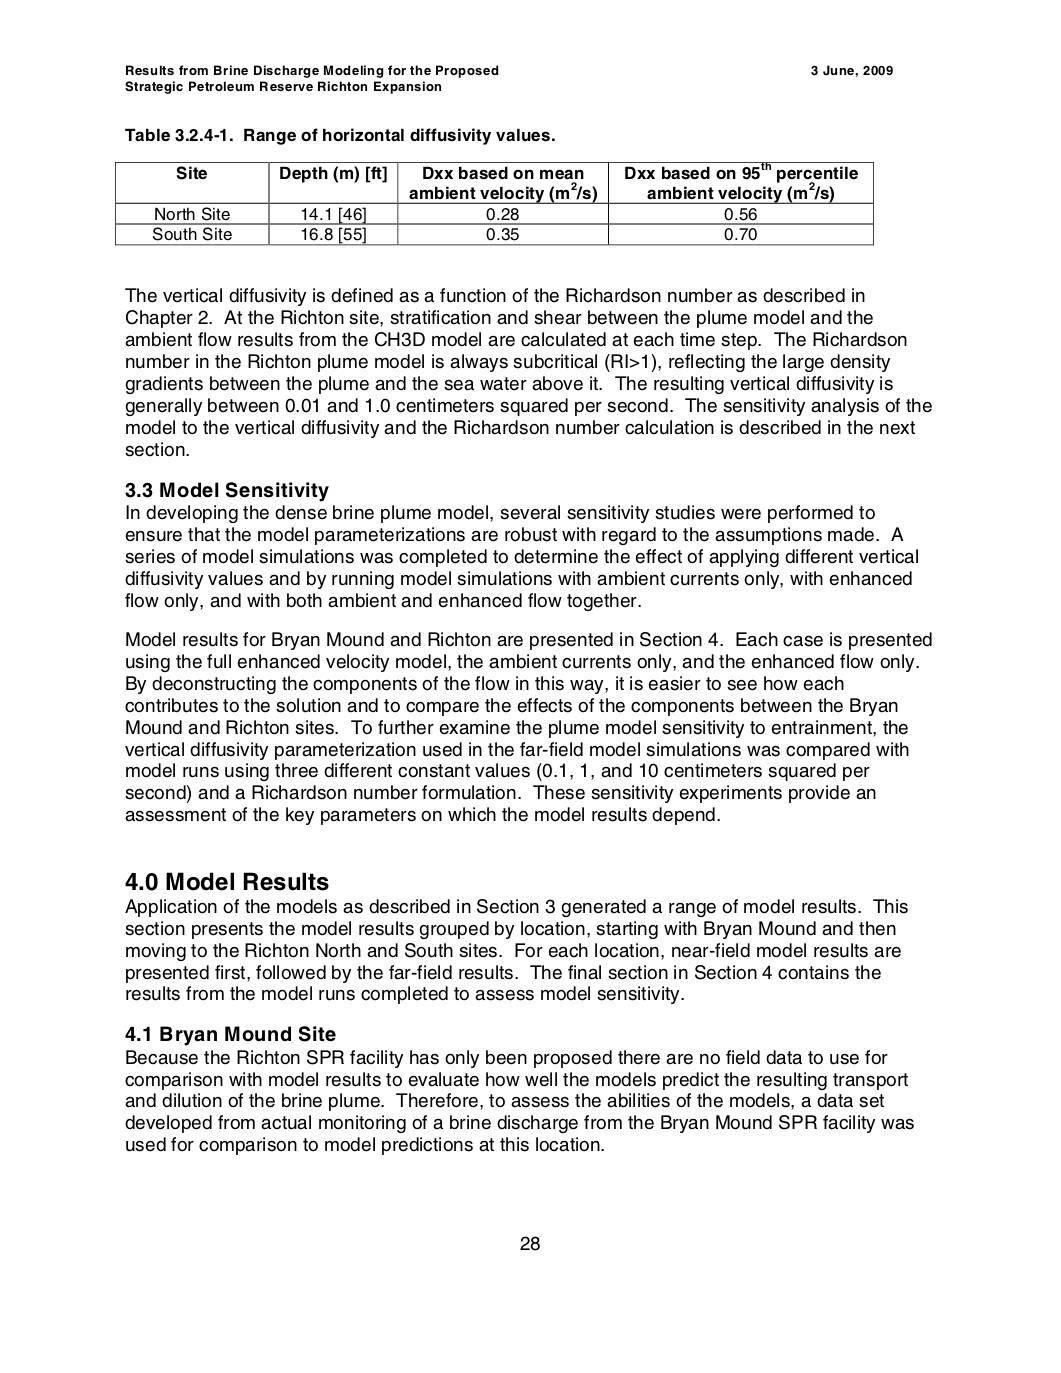Table: (115, 160, 873, 246)
